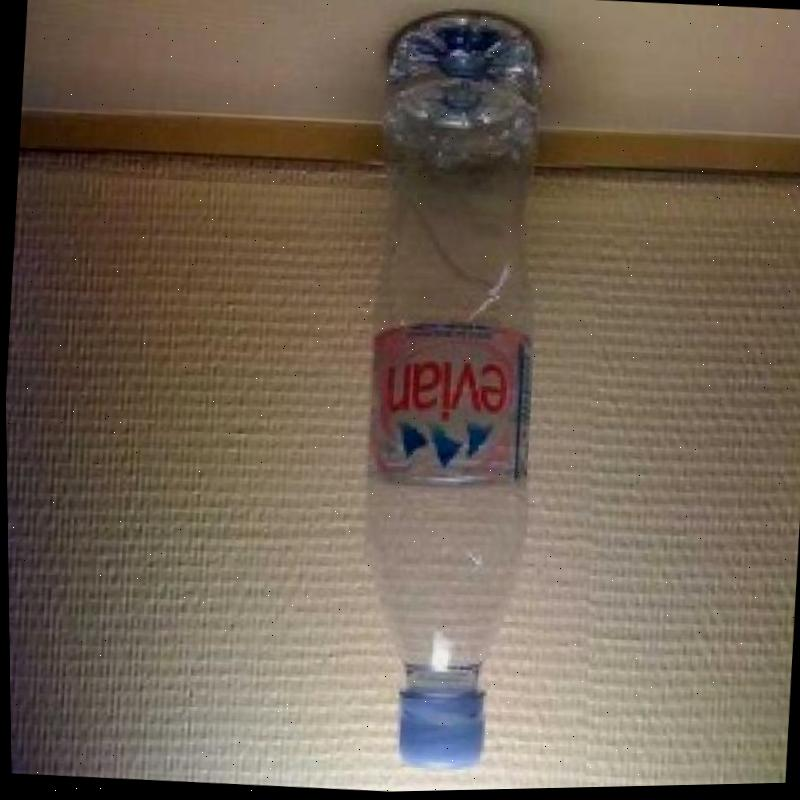botella: (333, 5, 563, 773)
